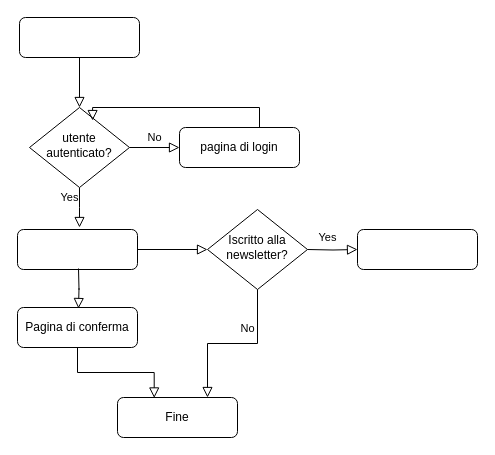
Some shapes in this 495 by 455 pixel diagram are drawn without their labels. Here are the shapes that lost their labels. From the top down, the box of each, then its label:
(18, 16, 140, 58): Click su bottone di richiesta
(16, 228, 138, 270): Invio richiesta
(356, 228, 478, 270): Invio email di conferma
